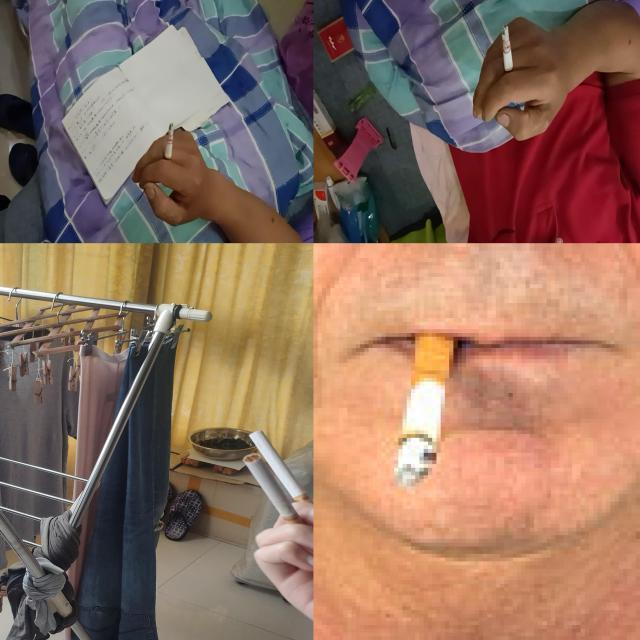smoking: (394, 326, 454, 482), (248, 430, 314, 522), (243, 452, 311, 540), (502, 23, 514, 84), (162, 122, 176, 170)
